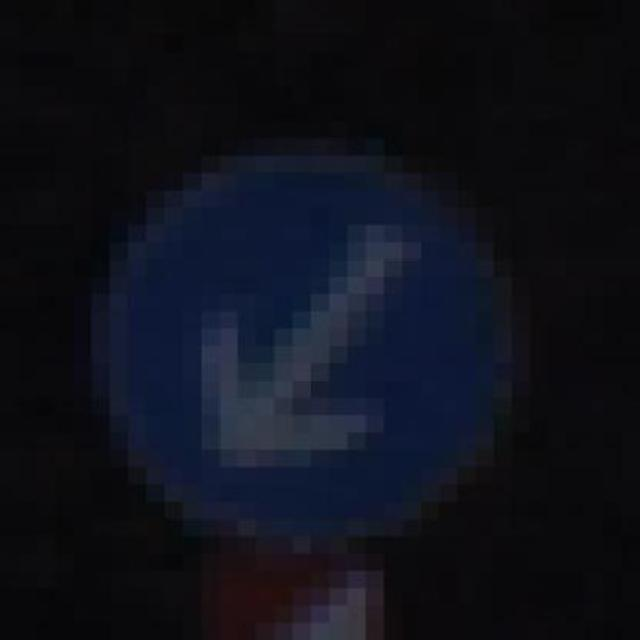Keep-Left: (110, 121, 548, 553)
